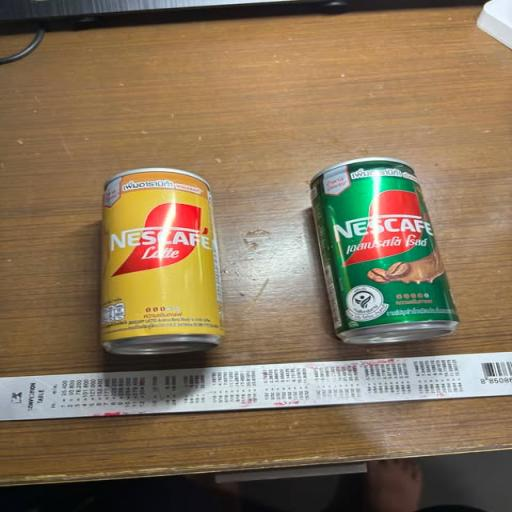canned: (293, 146, 479, 354), (78, 150, 252, 365)
